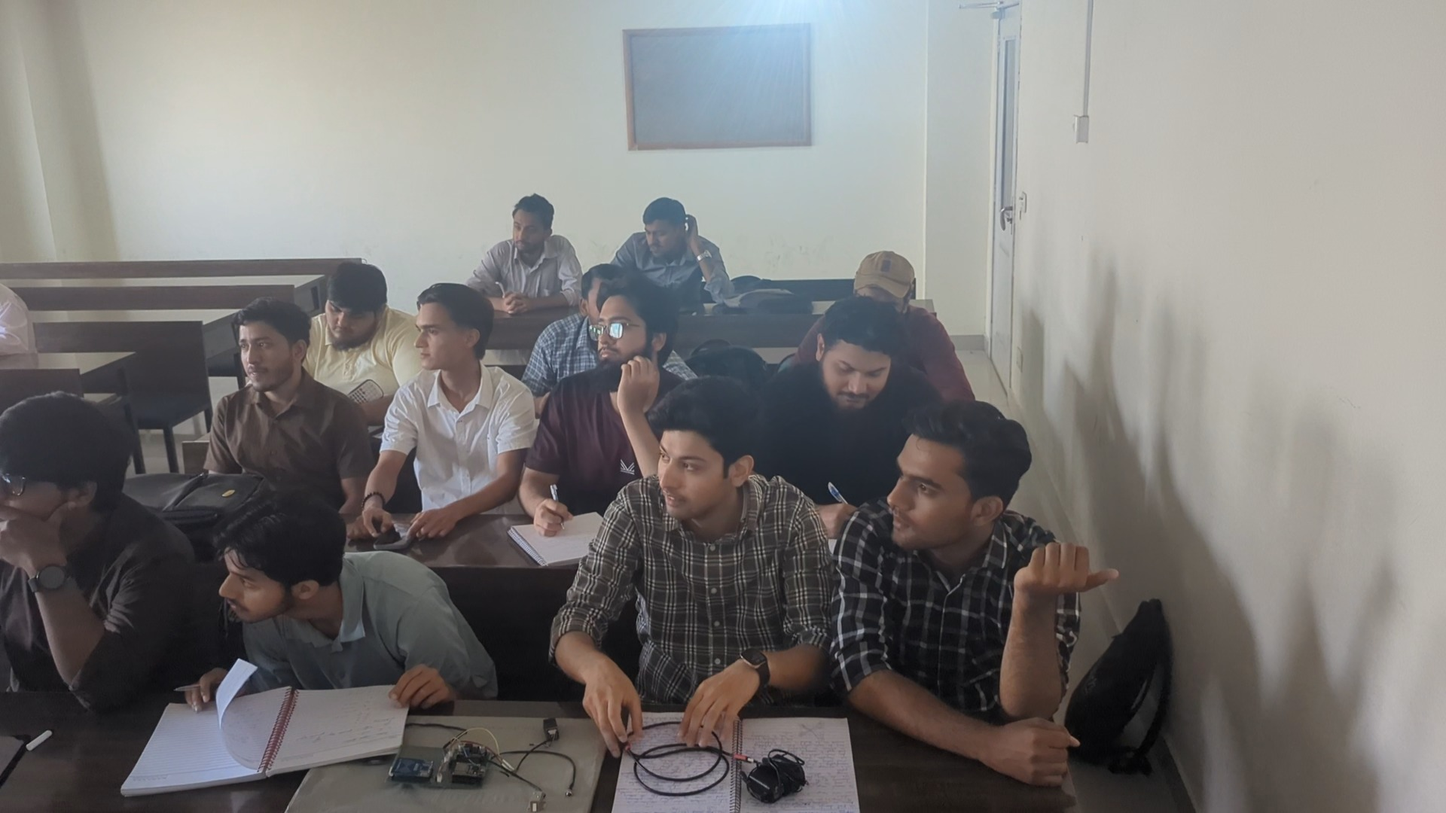look_forward: (5, 367, 164, 796), (171, 461, 413, 717), (870, 426, 1004, 668), (632, 401, 760, 633), (544, 272, 649, 514), (399, 282, 510, 469), (799, 279, 916, 447), (223, 272, 323, 446), (320, 248, 401, 411), (476, 175, 575, 280)
sleep: (622, 204, 728, 280)
